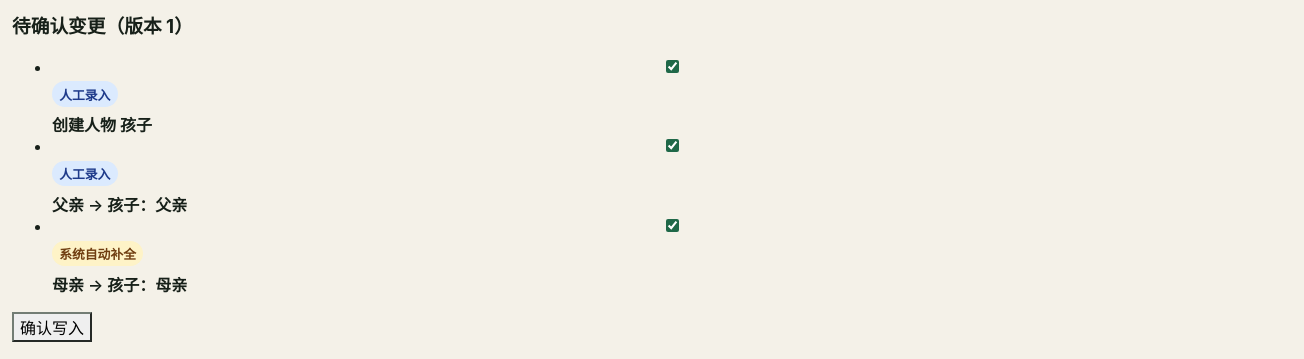
Test: controlled chat UI › prunes excluded people and explicit relations from dependent completion choices
Click the checkbox labelled "人工录入 创建人物 孩子".
click(672, 66)  # box [56,60,1289,73]
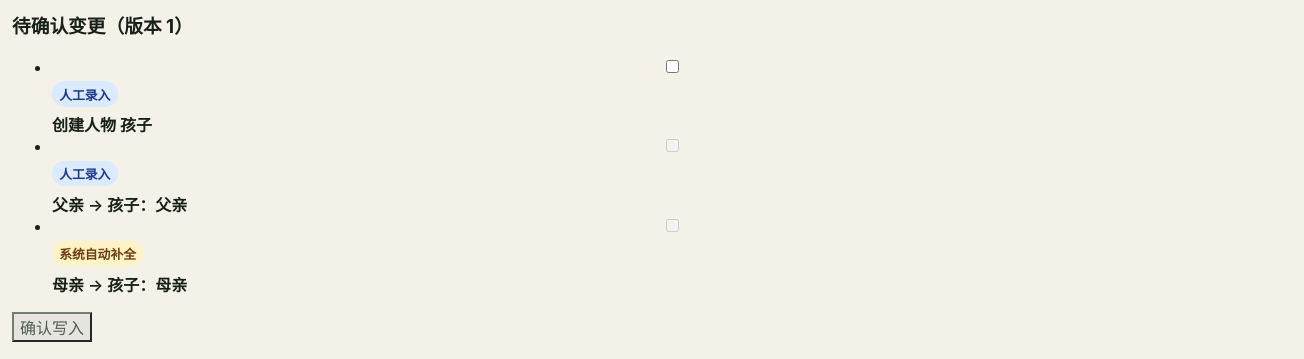
Expected: the checkbox labelled "人工录入 父亲 → 孩子：父亲" is not checked, [56,140,1289,152]
Expected: the checkbox labelled "系统自动补全 母亲 → 孩子：母亲" is not checked, [56,219,1289,232]
Expected: the checkbox labelled "系统自动补全 母亲 → 孩子：母亲" is disabled, [56,219,1289,232]
